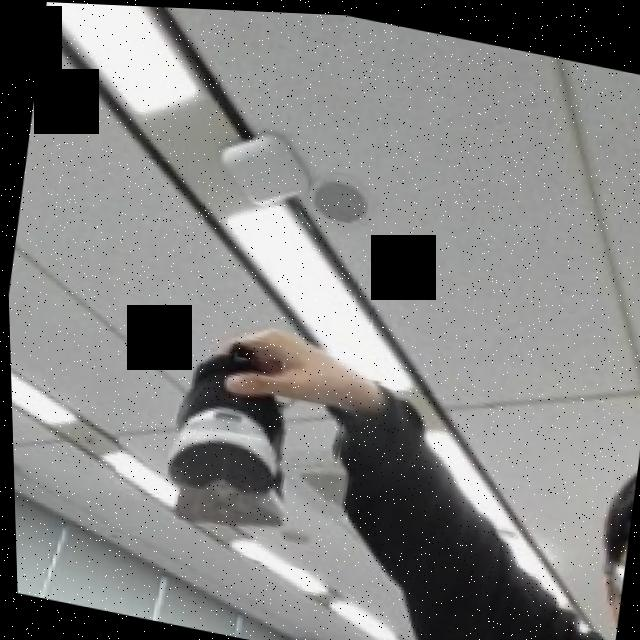shoe: (98, 280, 364, 573)
